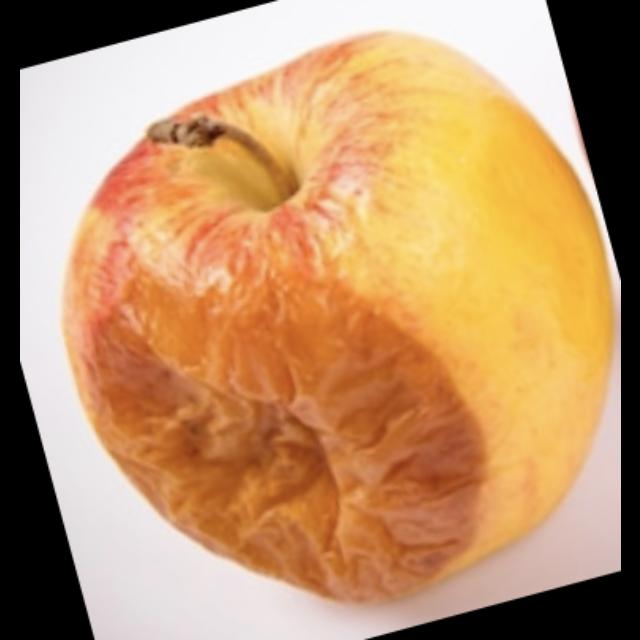Apel Tidak Segar: (56, 29, 612, 608)
